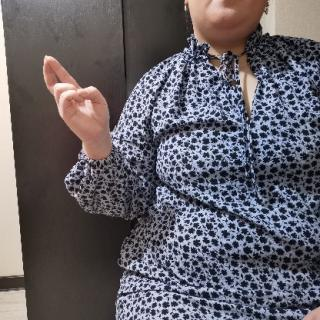ZAY: (40, 52, 120, 146)
